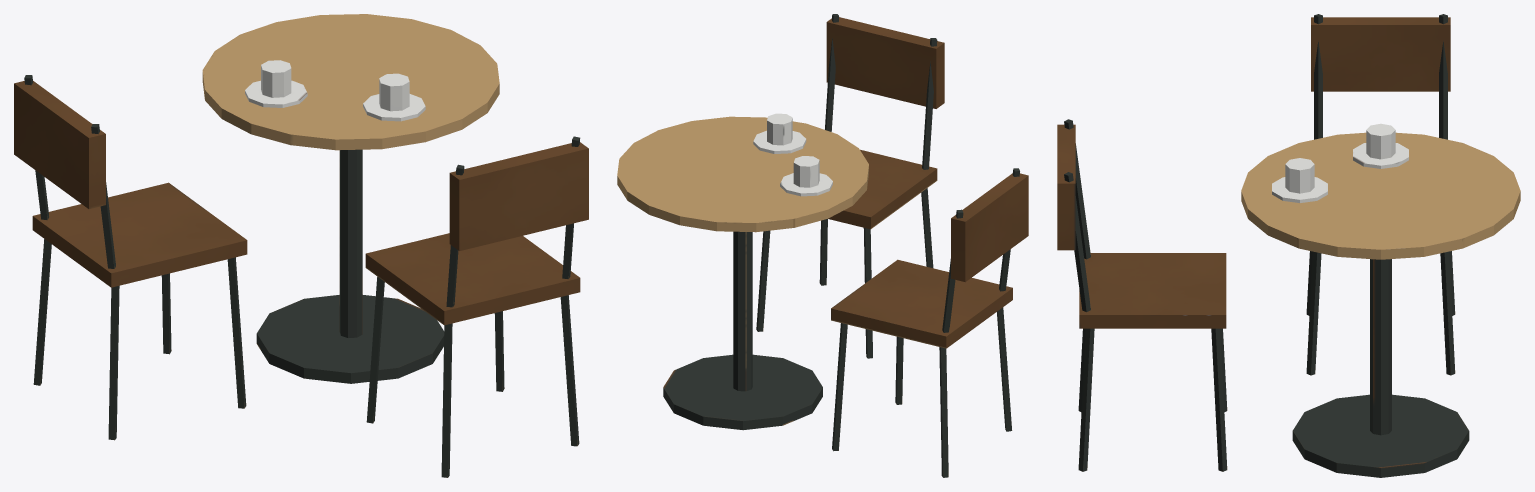
File: stolek_kavarna_b20d1261.glb
3 renders of one model, left to right at view 1: azimuth 30°, elevation 25°; view 2: azimuth 150°, elevation 25°; view 3: azimuth 270°, elevation 25°, orthographic. The views are drawn at different scales.
Visible parts, largest first — view 1: dum; view 2: dum; view 3: dum.
Boxes of the visible parts, x1,y1,x2,y2 form: dum: [14, 14, 588, 477]; dum: [617, 14, 1028, 477]; dum: [1057, 14, 1520, 477].
Size of the model in its own units: 1.26 by 0.8798 by 1.26.
Materials: 1 (1 with a texture image).
